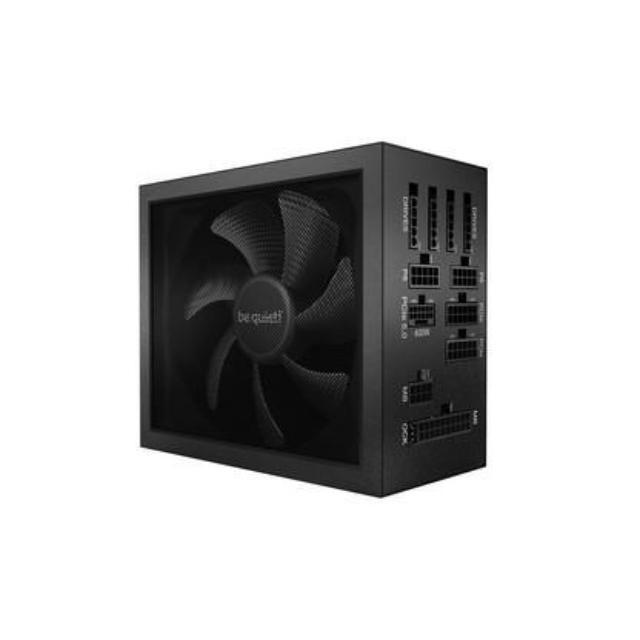PSU: (126, 132, 500, 500)
